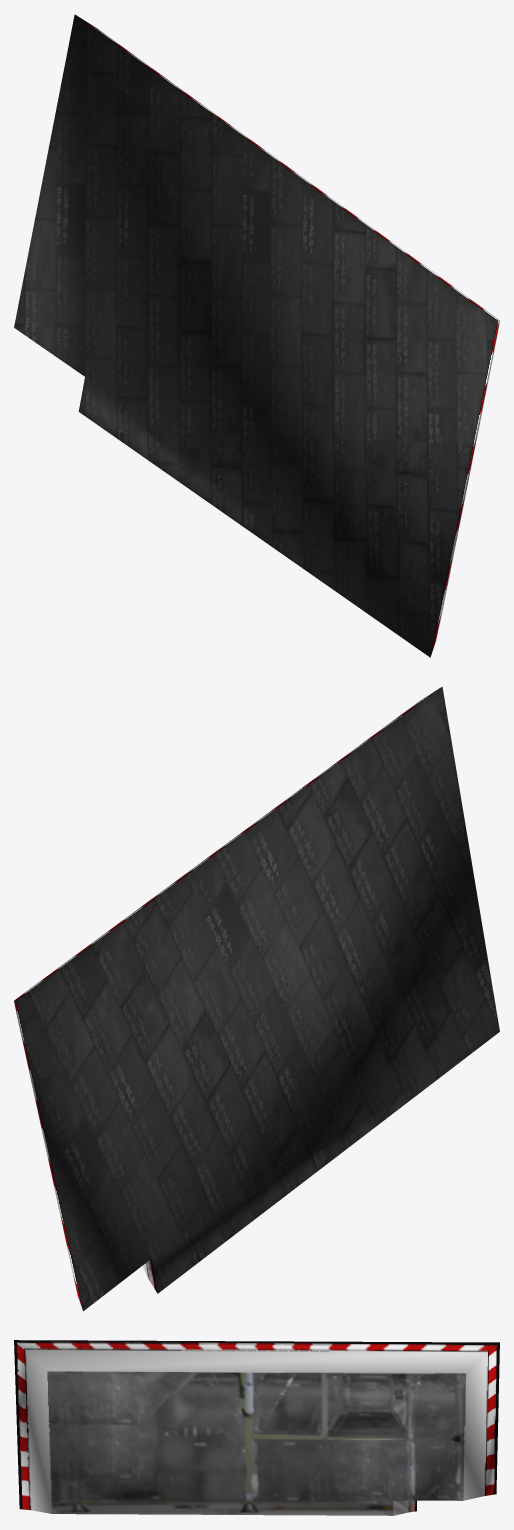
Rendered from mainGearDoor.fbx.
3 renders of one model, top to bottom at view 1: azimuth 30°, elevation 25°; view 2: azimuth 150°, elevation 25°; view 3: azimuth 270°, elevation 25°, orthographic. The views are drawn at different scales.
Visible parts, largest first — view 1: MainGearDoor; view 2: MainGearDoor; view 3: MainGearDoor.
Part boxes in pixels (box(x1,y1,x2,y2)): MainGearDoor: box(14, 14, 499, 657); MainGearDoor: box(14, 686, 499, 1311); MainGearDoor: box(14, 1340, 499, 1515).
Size of the model in its own units: 2.05 by 6.63 by 15.37.
